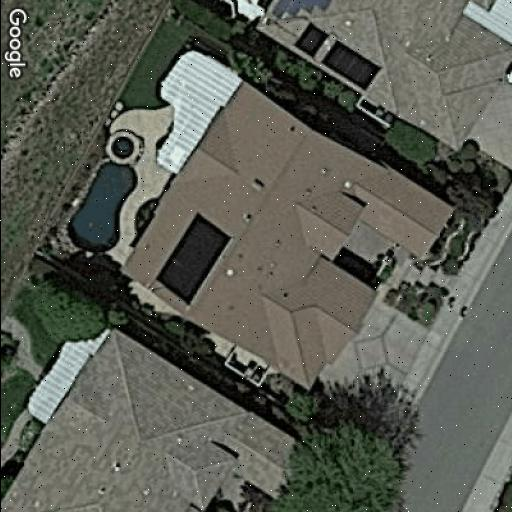solar-panel: (156, 211, 234, 306), (318, 38, 380, 92), (270, 0, 335, 24), (292, 24, 331, 58)
